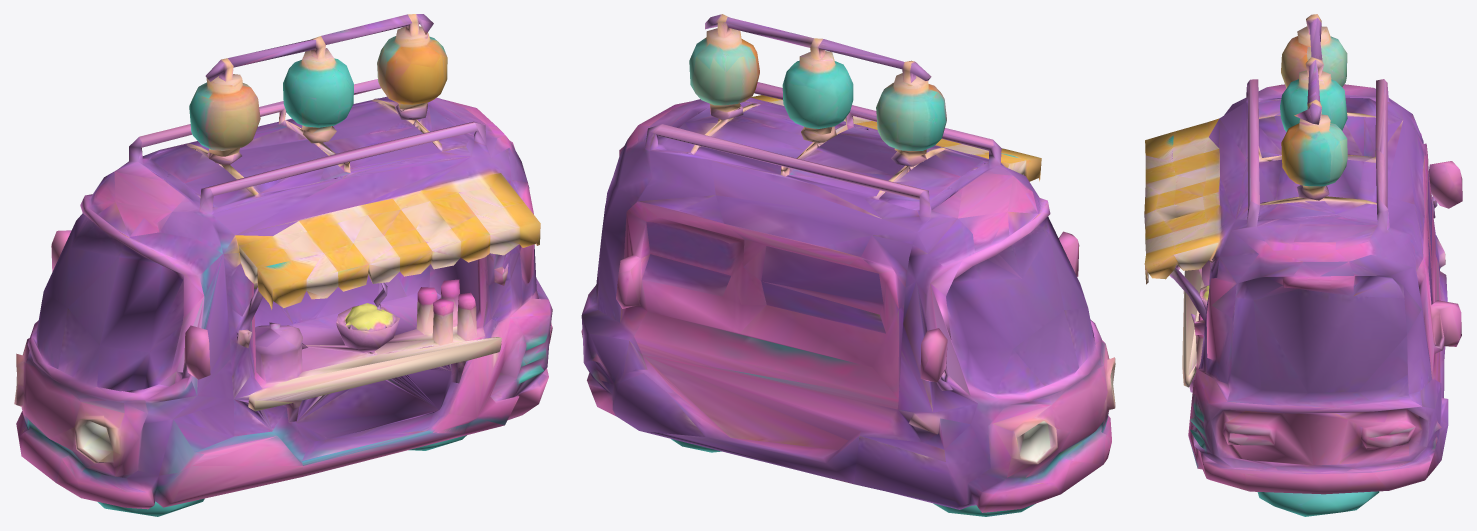
Rendered from cart.glb.
3 renders of one model, left to right at view 1: azimuth 30°, elevation 25°; view 2: azimuth 150°, elevation 25°; view 3: azimuth 270°, elevation 25°, orthographic. The views are drawn at different scales.
Visible parts, largest first — view 1: V08_food-cart; view 2: V08_food-cart; view 3: V08_food-cart.
Part boxes in pixels (<box>): V08_food-cart: <box>14,14,552,516</box>; V08_food-cart: <box>581,14,1115,516</box>; V08_food-cart: <box>1144,14,1462,516</box>.
Size of the model in its own units: 1.18 by 1 by 0.7279.
1 material, 1 textured.
